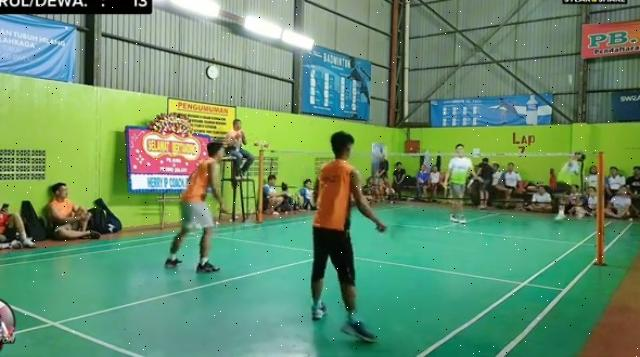Shuttlecock: (566, 72, 574, 86)
